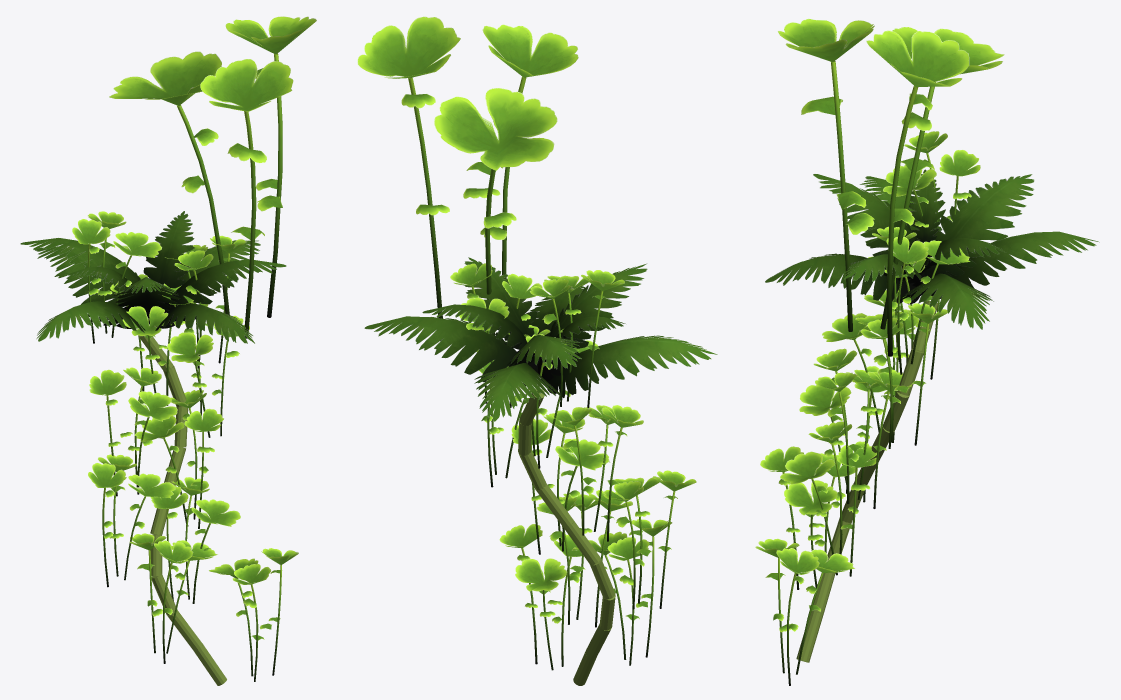
File: Cable_Spool_Greenery.glb
The picture shows the model from 3 angles, left to right: view 1: azimuth 30°, elevation 25°; view 2: azimuth 150°, elevation 25°; view 3: azimuth 270°, elevation 25°; orthographic projection. The views are drawn at different scales.
Parts seen in each view (by area): view 1: Patch_00; view 2: Patch_00; view 3: Patch_00.
Boxes of the visible parts, x1,y1,x2,y2 form: Patch_00: [20, 16, 316, 685]; Patch_00: [357, 16, 717, 685]; Patch_00: [755, 18, 1099, 685].
Size of the model in its own units: 0.8228 by 1.57 by 0.7381.
3 materials, 2 textured.
